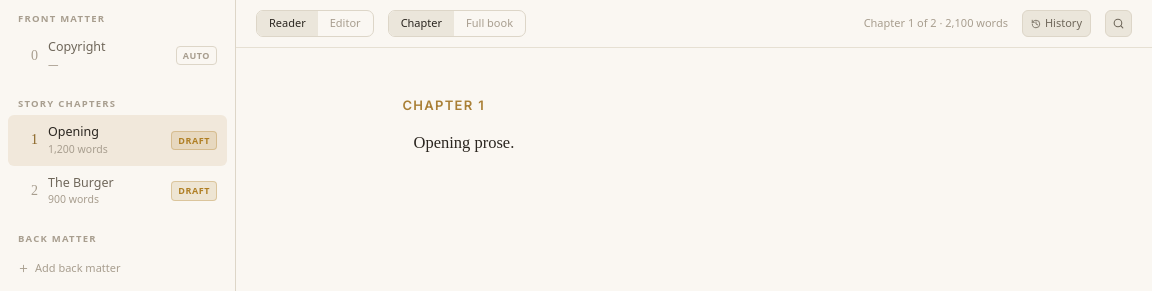
ManuscriptView › shows the no-draft message for chapters without a draft
The image size is (1152, 308).
Expected: the text "Opening prose." is shown, [414,132,514,152]
Click the text "Copyright": [77, 47] box [48,38,106,55]
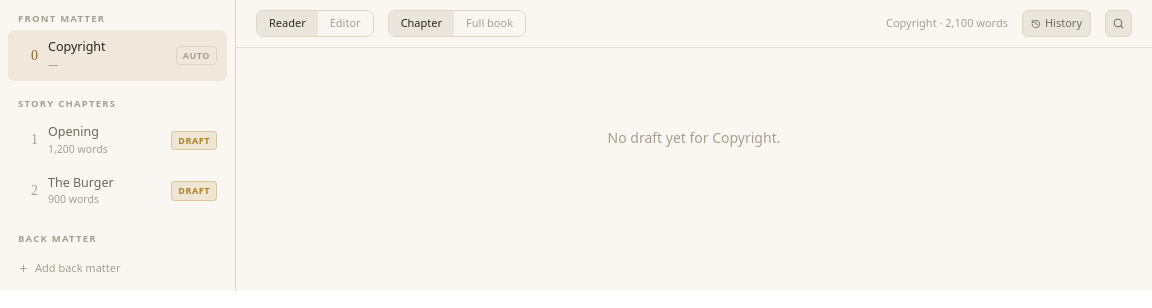
Result: the text "No draft yet for Copyright." is shown at [608,128,780,147]
